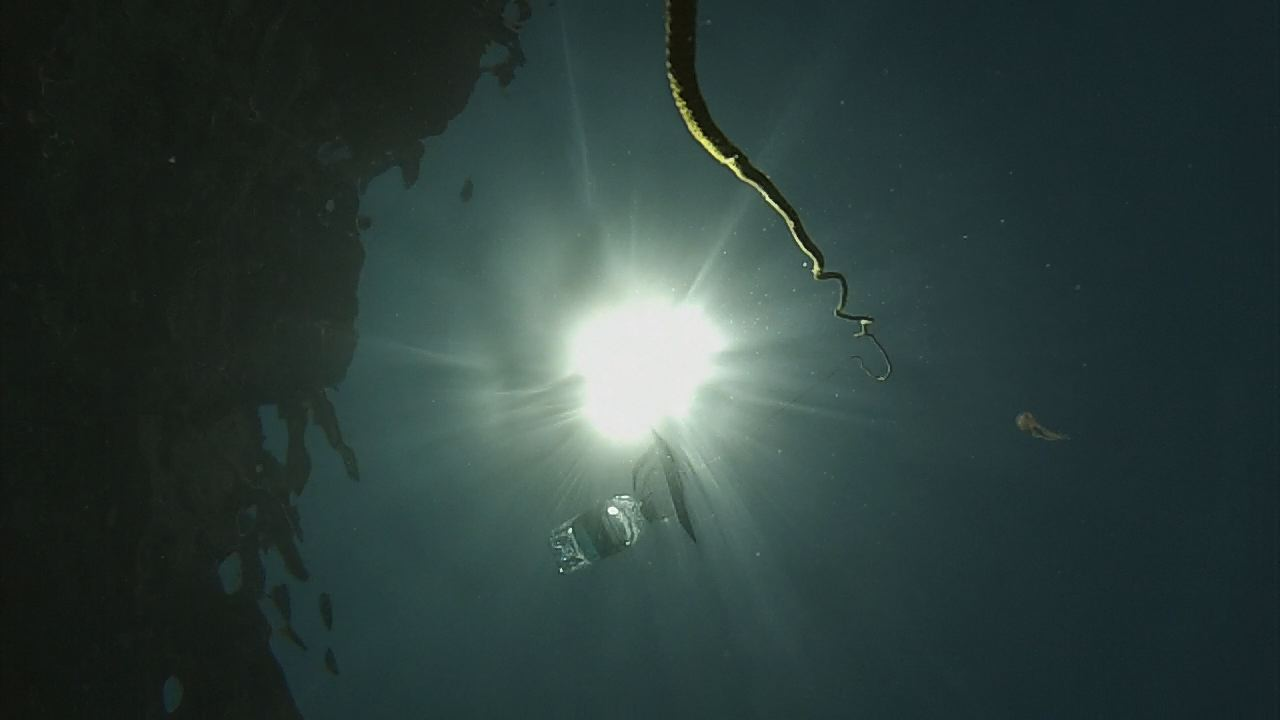pelagia: (1007, 404, 1071, 452)
